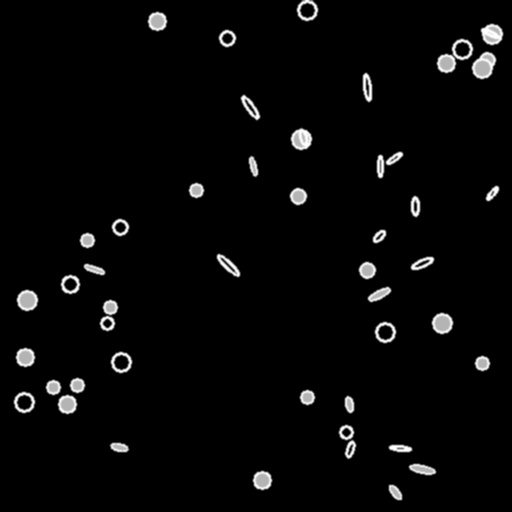pseudomonas: (216, 253, 240, 277), (240, 94, 260, 120), (410, 255, 434, 271), (368, 286, 390, 302), (387, 483, 403, 501), (362, 73, 372, 101), (409, 464, 435, 474), (371, 228, 387, 244), (385, 151, 403, 165), (84, 263, 104, 275), (480, 27, 500, 39), (485, 185, 499, 201), (344, 440, 356, 458), (298, 128, 308, 146), (110, 442, 128, 452), (248, 157, 258, 175), (344, 396, 354, 412), (389, 445, 411, 451), (412, 197, 418, 215), (378, 156, 383, 177)
synechocystis: (15, 393, 33, 411), (292, 130, 310, 148), (433, 314, 451, 332), (298, 1, 316, 19), (453, 40, 471, 58), (473, 59, 491, 77), (376, 323, 394, 341), (483, 25, 501, 43), (112, 353, 130, 371), (18, 291, 36, 309), (62, 276, 78, 292), (149, 13, 165, 29), (438, 55, 454, 71), (59, 396, 75, 412), (17, 349, 33, 365), (254, 472, 270, 488), (220, 31, 234, 45), (113, 220, 127, 234), (291, 189, 305, 203), (480, 53, 494, 67), (360, 263, 374, 277), (301, 391, 313, 403), (47, 381, 59, 393), (476, 357, 488, 369), (190, 184, 202, 196), (81, 234, 93, 246), (71, 379, 83, 391), (104, 301, 116, 313), (101, 317, 113, 329), (340, 426, 352, 438)
